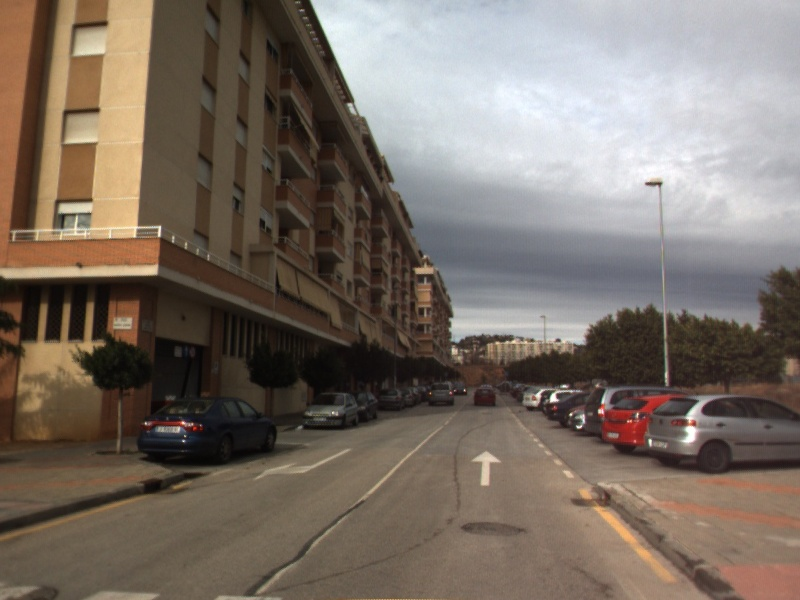STRAIGHT: (469, 448, 504, 488)
